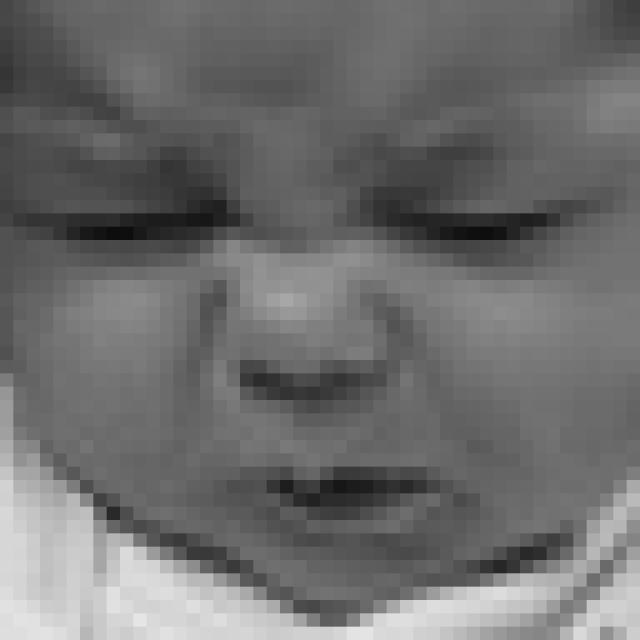disgust: (35, 133, 609, 553)
